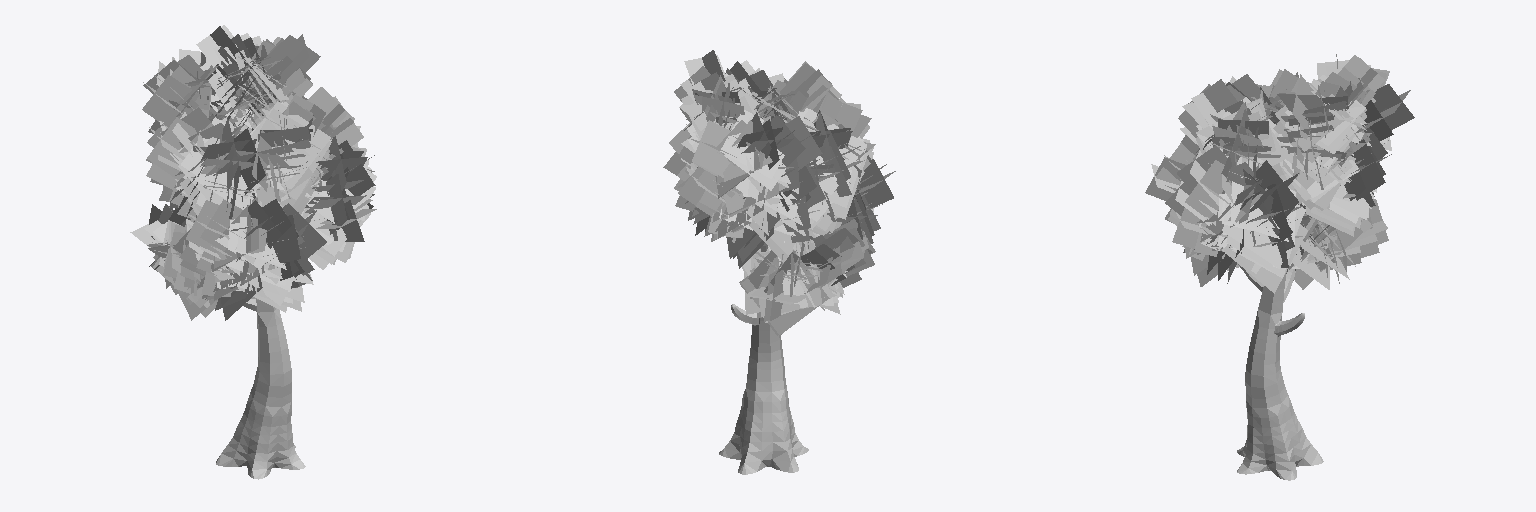
Rendered from CommonTree_5.obj.
3 renders of one model, left to right at view 1: azimuth 30°, elevation 25°; view 2: azimuth 150°, elevation 25°; view 3: azimuth 270°, elevation 25°, orthographic.
Visible parts, largest first — view 1: CommonTree_5; view 2: CommonTree_5; view 3: CommonTree_5.
Boxes of the visible parts, box(x1,y1,x2,y2) form: CommonTree_5: box(130, 25, 376, 479); CommonTree_5: box(663, 50, 895, 474); CommonTree_5: box(1145, 54, 1414, 480).
Bounding box in the file's own units: 3.67 × 7.01 × 4.22.